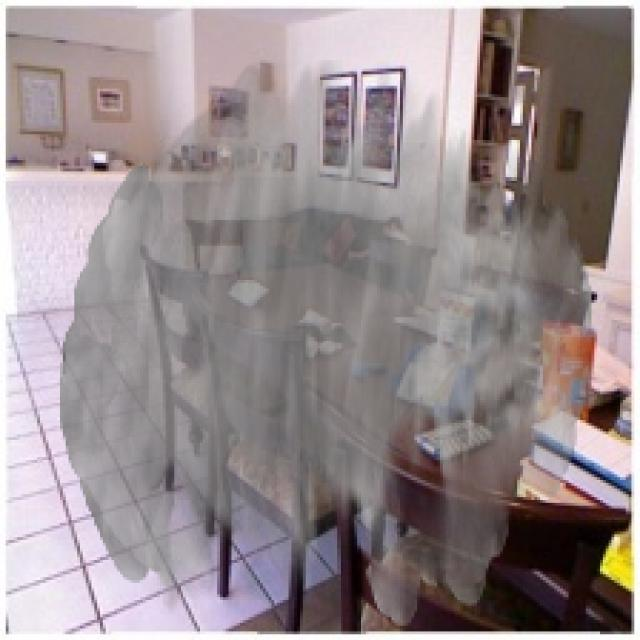smoke: (60, 60, 594, 629)
